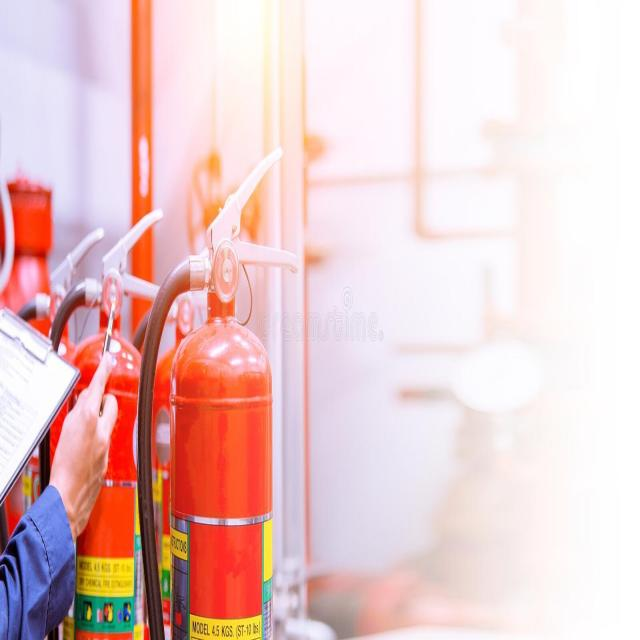fire_extinguisher: (134, 141, 302, 639), (38, 201, 181, 639)
